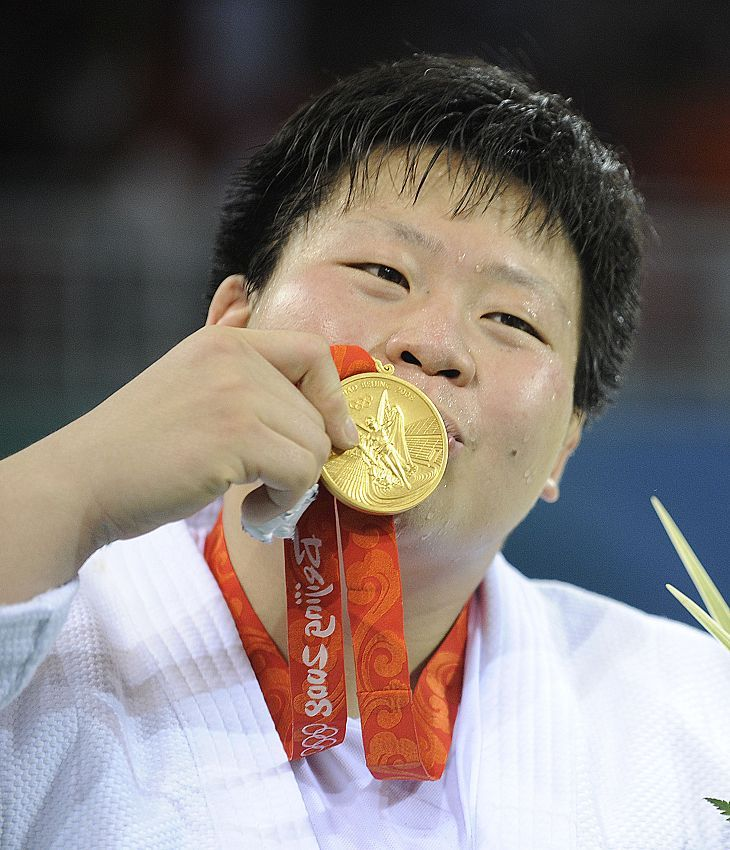face: (261, 157, 576, 567)
